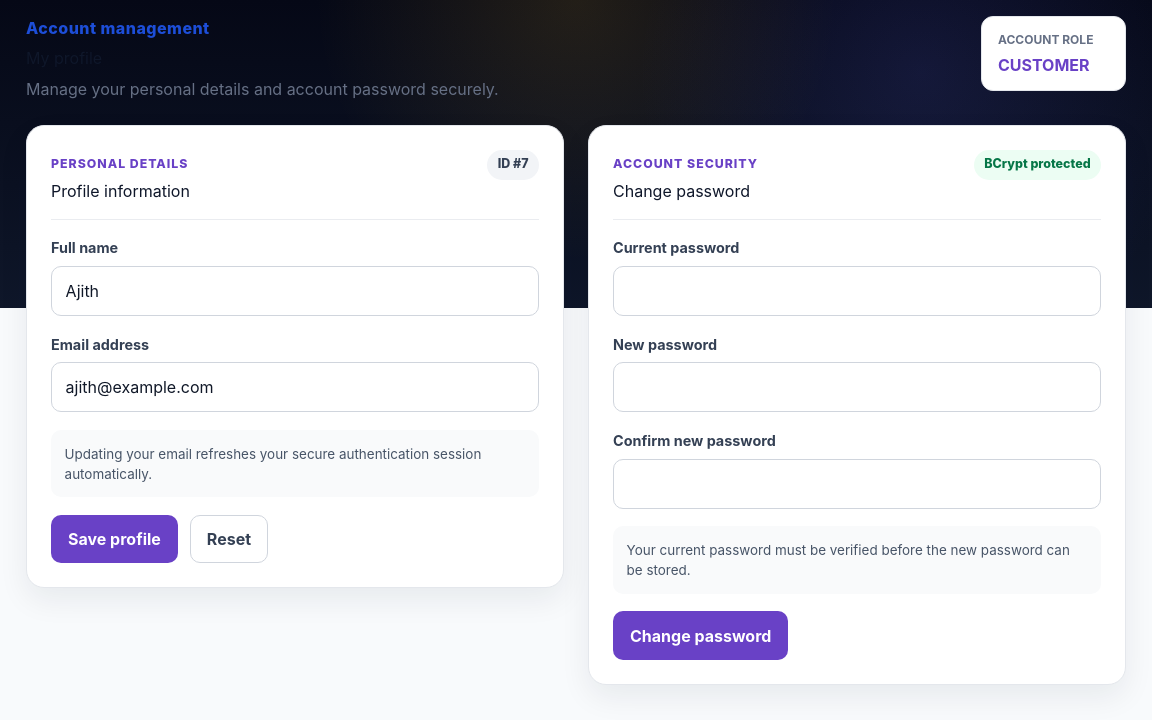
it: ProfilePage › updates the authenticated user's profile
Replace the text in the field labelled "Full name" with "Ajith Sathyanandan" at (295, 291), box [51,266,539,316]
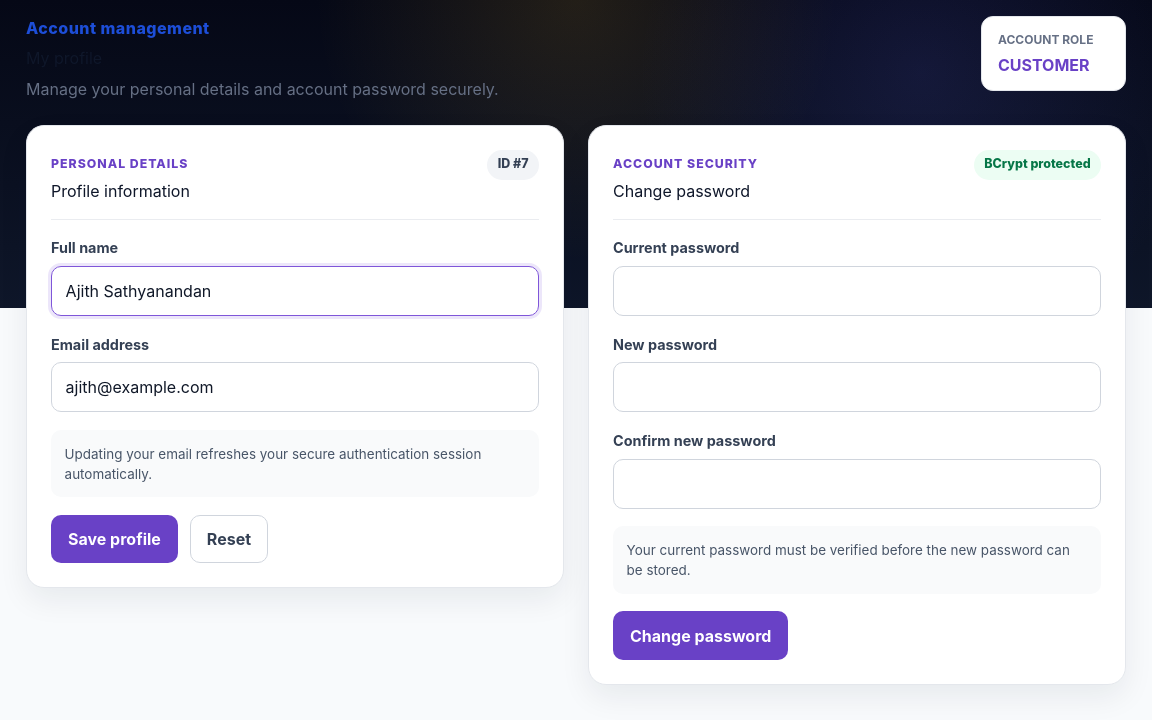
Replace the text in the field labelled "Email address" with "ajith.new@example.com" at (295, 387), box [51,362,539,412]
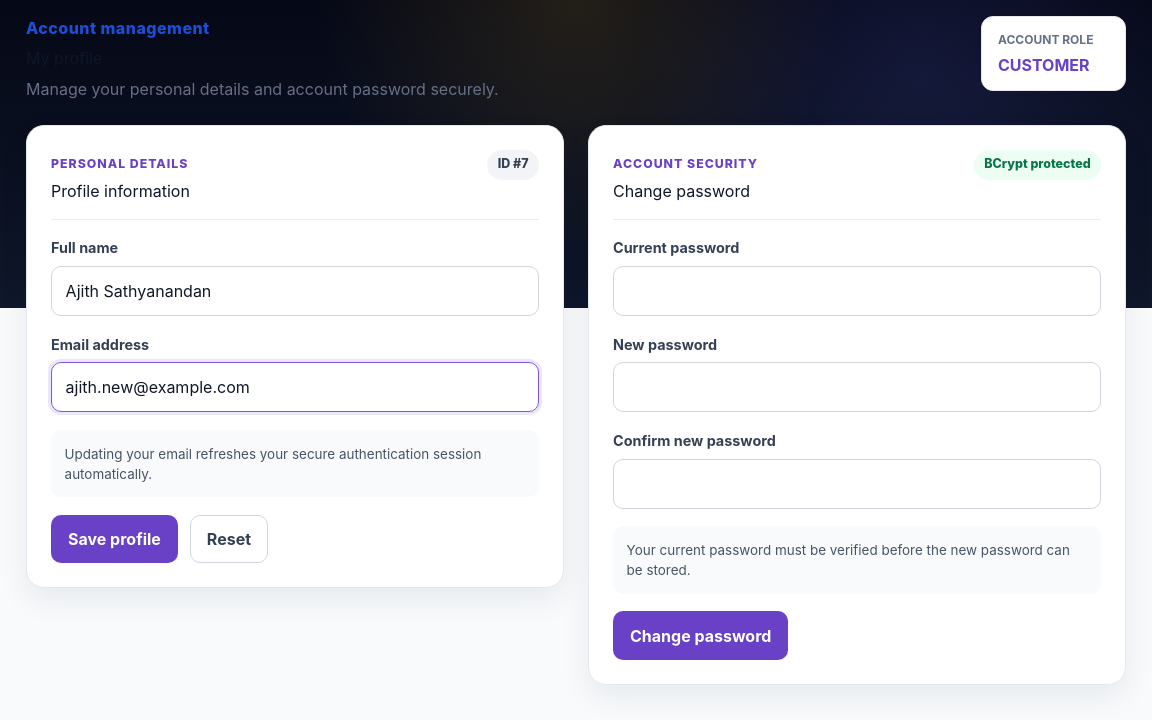
Click the button "Save profile" at (114, 539), box [51,515,178,563]
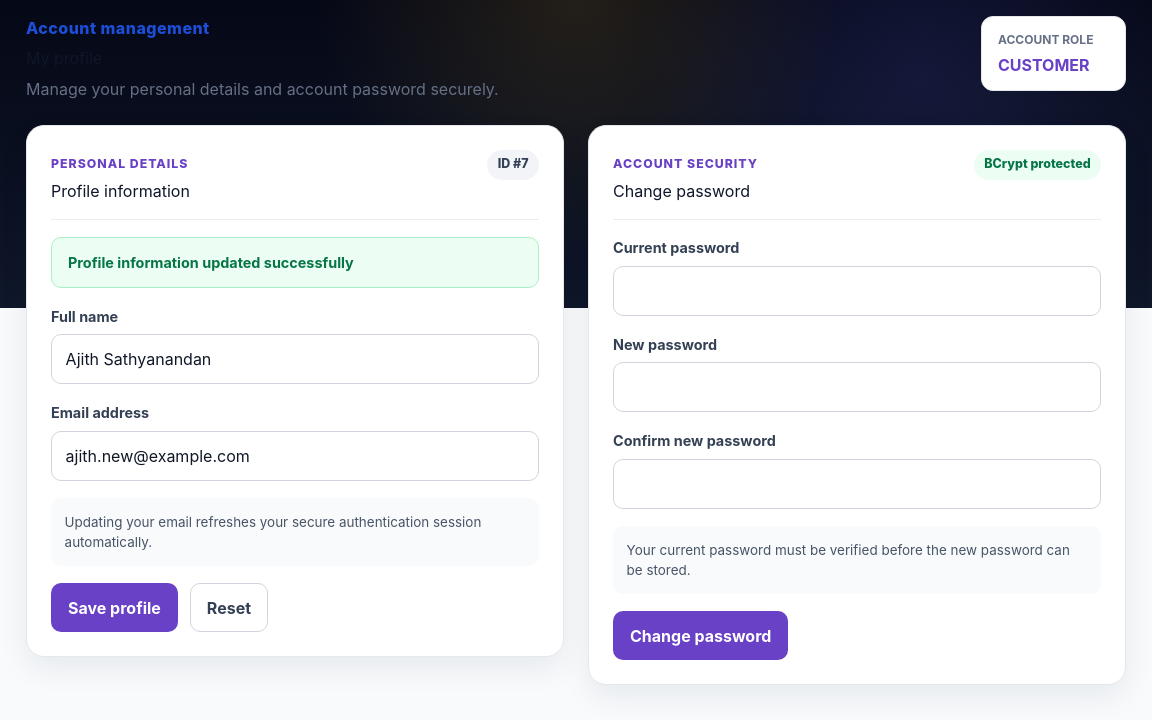
Check: the text "Profile information updated successfully" is shown, box [51,237,539,288]
